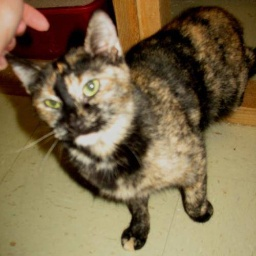cat: (4, 2, 256, 249)
